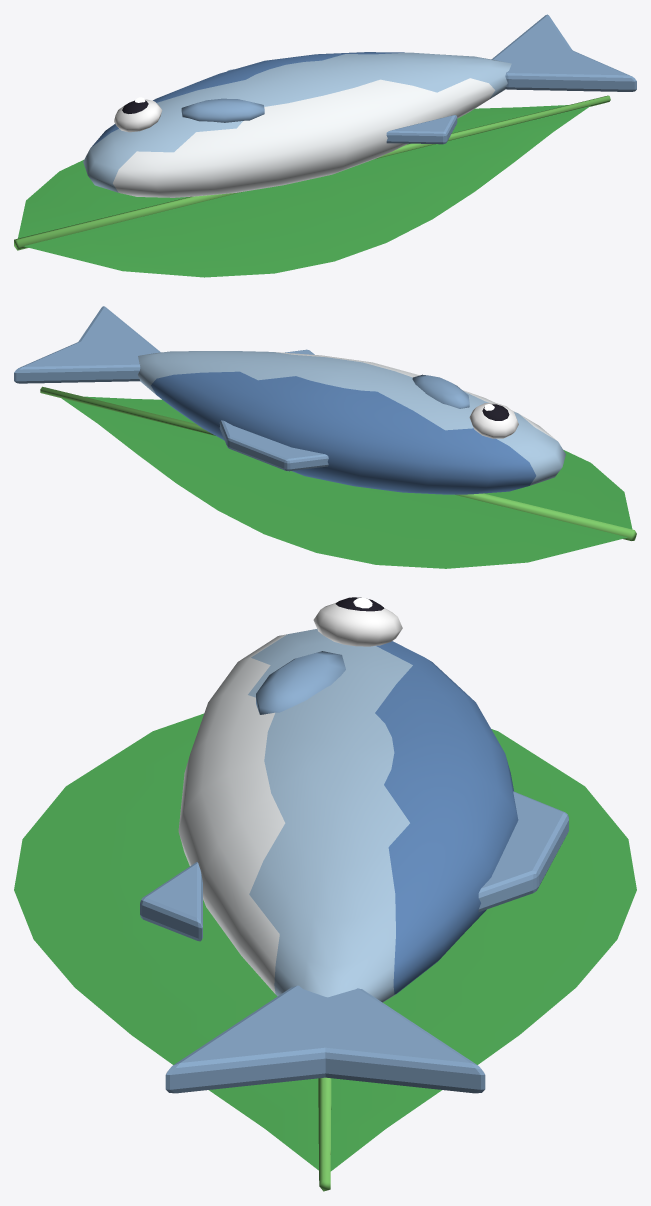
File: peixe.glb
3 views of the same model, one above another, from view 1: azimuth 30°, elevation 25°; view 2: azimuth 150°, elevation 25°; view 3: azimuth 270°, elevation 25° (orthographic). The views are drawn at different scales.
Parts seen in each view (by area): view 1: peixe; view 2: peixe; view 3: peixe.
Boxes of the visible parts, x1,y1,x2,y2 form: peixe: (14,14,636,277); peixe: (14,306,636,568); peixe: (14,597,636,1191).
Bounding box in the file's own units: 0.39 × 0.0728 × 0.1984.
